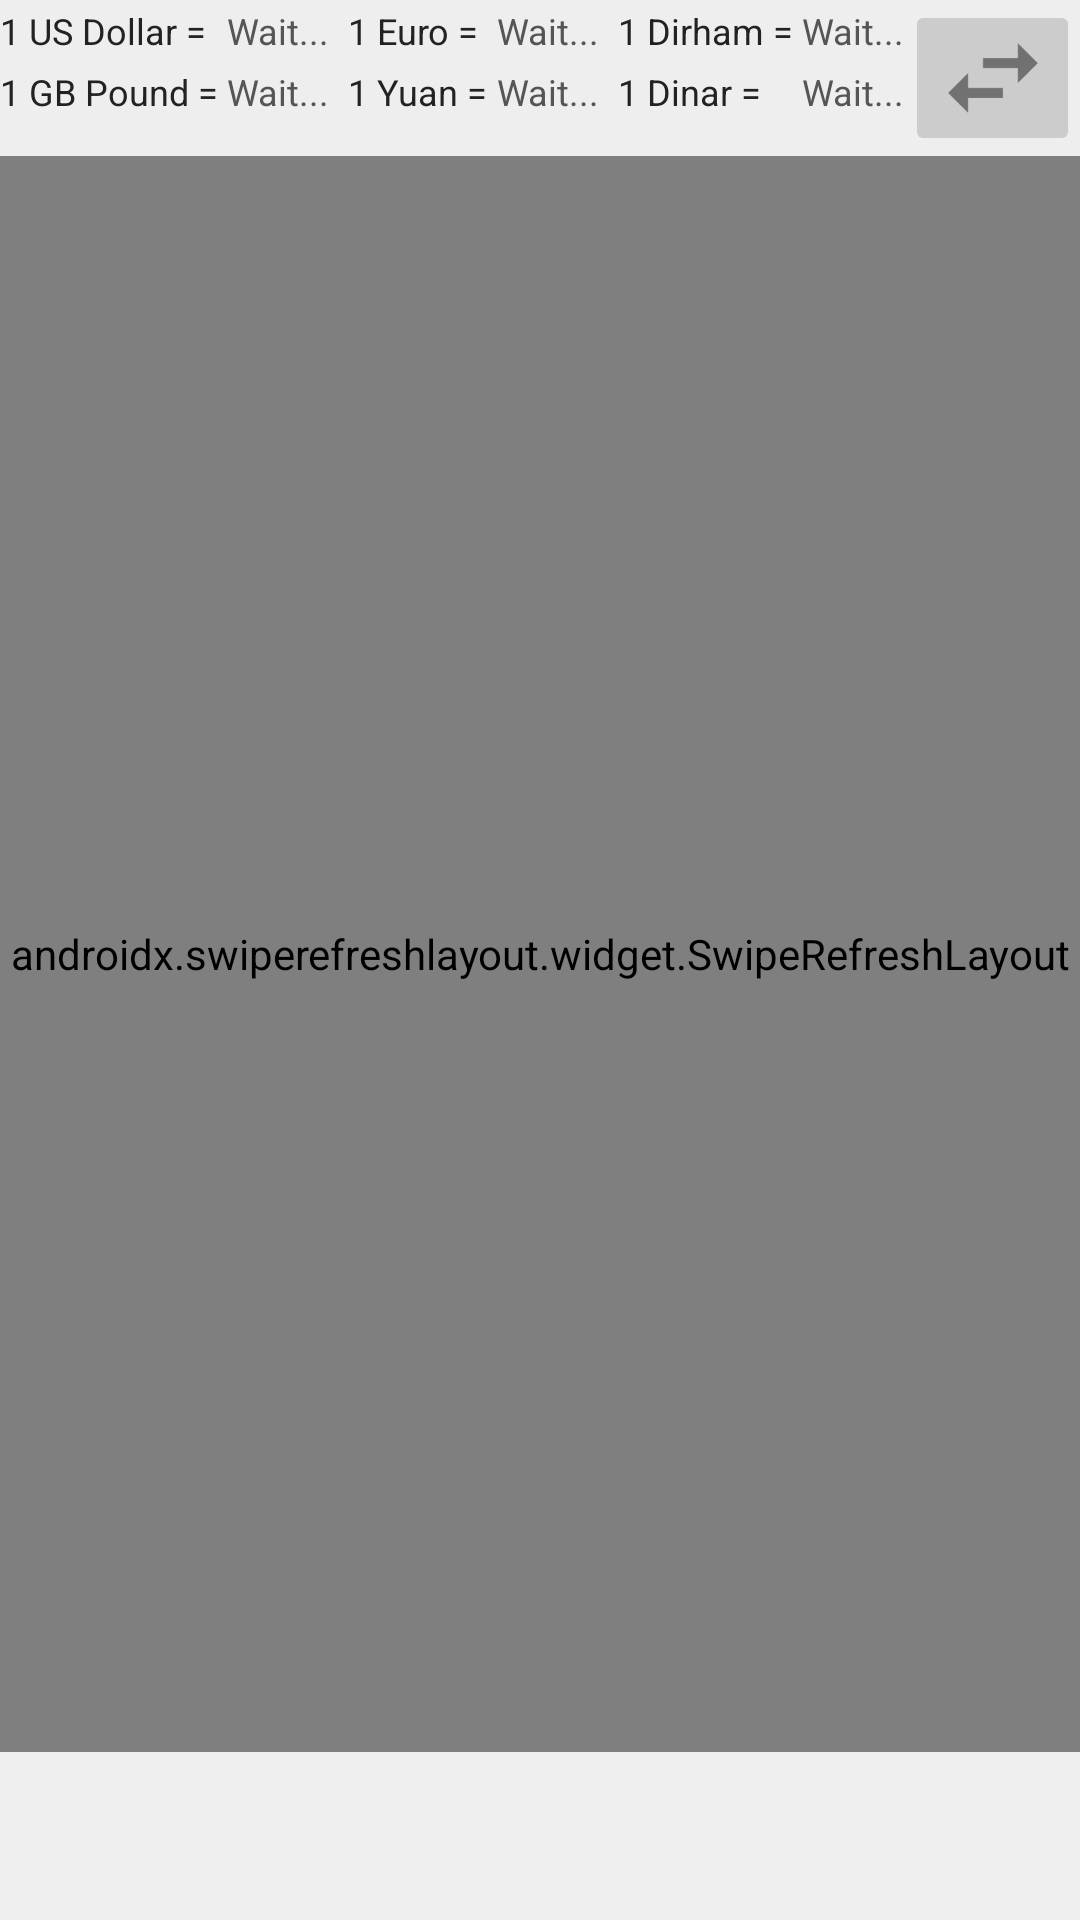

Icon click points for this 1080w x 1920h phone screenshot, format [x,y]:
convert: [992,78]
